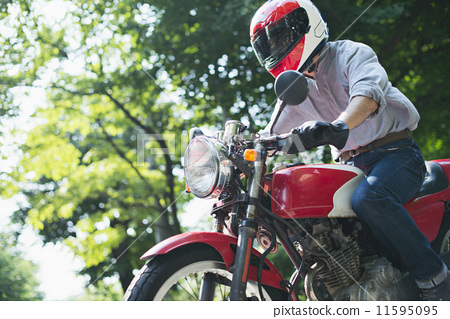helmet: (248, 4, 331, 65)
